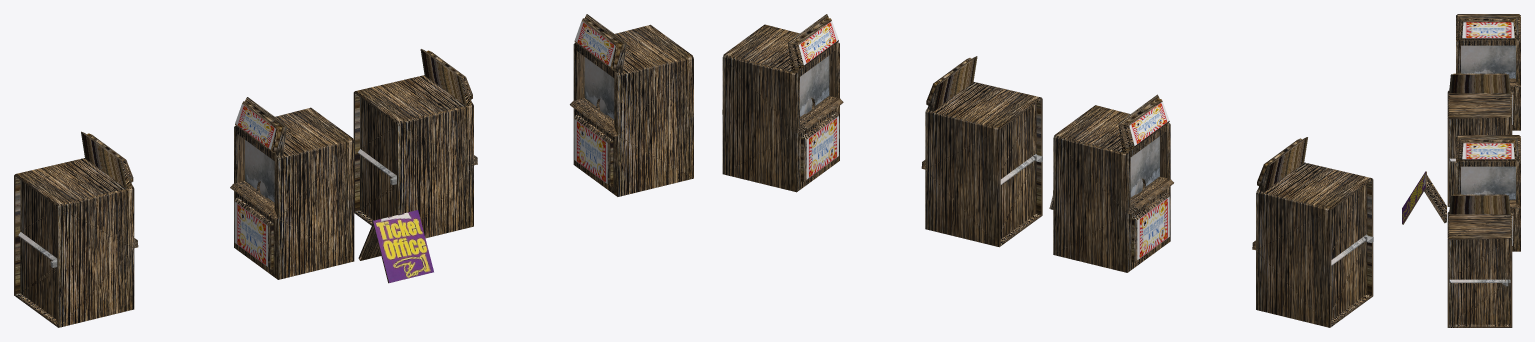
The model's file is Ticket Booth.FBX.
The picture shows the model from 3 angles, left to right: view 1: azimuth 30°, elevation 25°; view 2: azimuth 150°, elevation 25°; view 3: azimuth 270°, elevation 25°; orthographic projection. The views are drawn at different scales.
Parts seen in each view (by area): view 1: Box005, Box004, Box001, Box003, Box002; view 2: Box005, Box003, Box001, Box004; view 3: Box001, Box004, Box003, Box005, Box002.
Boxes of the visible parts, x1,y1,x2,y2 form: Box005: (14, 131, 138, 327); Box004: (230, 97, 354, 279); Box001: (570, 14, 693, 196); Box003: (353, 49, 477, 238); Box002: (358, 210, 433, 283); Box005: (1252, 137, 1373, 327); Box003: (921, 56, 1042, 247); Box001: (722, 14, 843, 192); Box004: (1053, 94, 1173, 272); Box001: (1447, 194, 1512, 327); Box004: (1447, 73, 1512, 206); Box003: (1456, 135, 1520, 251); Box005: (1456, 14, 1520, 130); Box002: (1402, 171, 1446, 224).
Size of the model in its own units: 326 by 73.85 by 72.2.
Materials: 5 (5 with a texture image).
